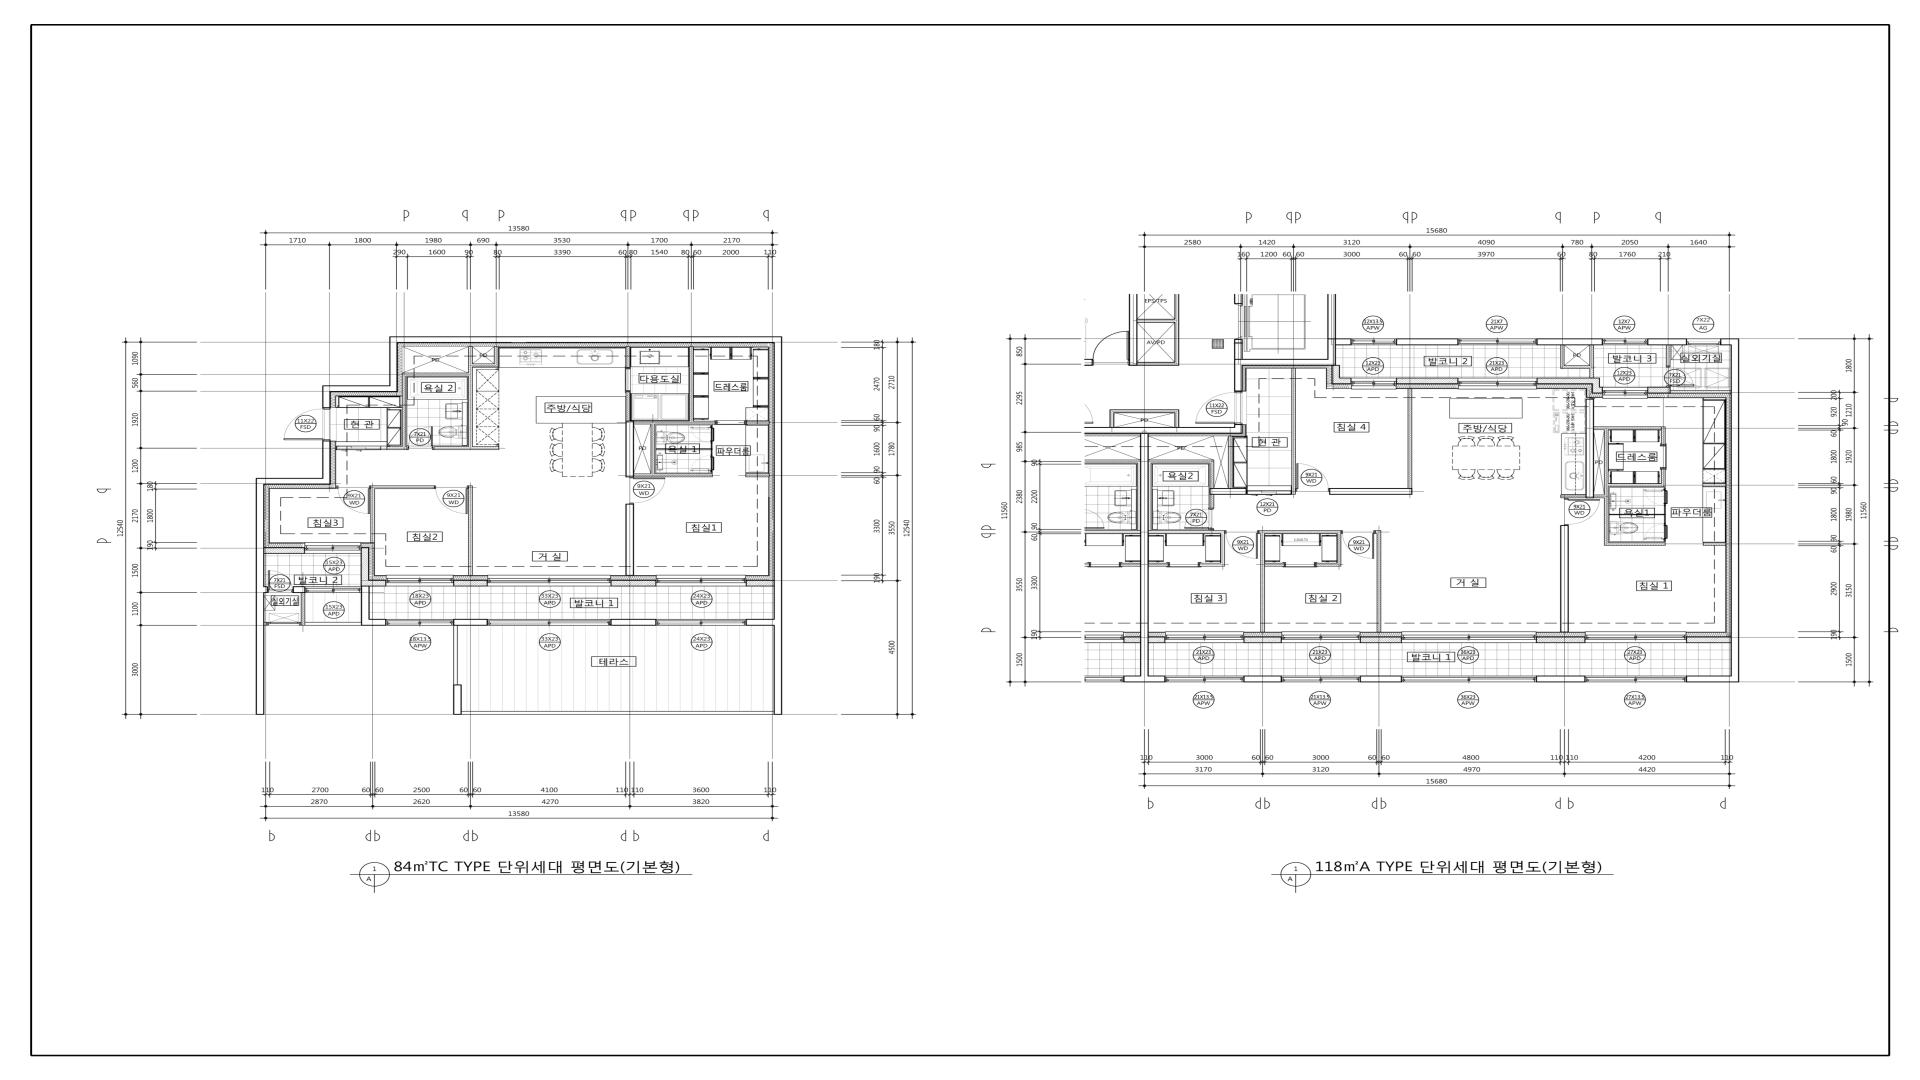door: (1195, 392, 1236, 423), (284, 409, 324, 440), (1296, 463, 1329, 492), (1225, 531, 1258, 559), (1564, 500, 1600, 525), (1342, 531, 1374, 559), (629, 479, 666, 502), (435, 487, 467, 514), (338, 487, 369, 514), (268, 570, 293, 591), (1184, 509, 1211, 529), (1668, 367, 1695, 386), (409, 426, 433, 447), (1643, 524, 1668, 539), (690, 427, 715, 443), (690, 455, 715, 471), (1643, 491, 1668, 505), (336, 446, 386, 450), (1247, 491, 1291, 495), (1284, 562, 1316, 567), (1168, 562, 1200, 567), (1660, 444, 1667, 469), (625, 368, 630, 392), (716, 421, 746, 425)
wall: (322, 336, 782, 626), (1687, 339, 1739, 682), (256, 440, 331, 625), (1139, 434, 1166, 683), (1234, 339, 1336, 392), (1084, 423, 1242, 434), (361, 585, 386, 626), (1560, 525, 1569, 632), (1536, 378, 1604, 393), (1585, 398, 1594, 498), (1374, 530, 1381, 632), (1291, 368, 1296, 495), (1129, 294, 1138, 365), (625, 504, 634, 575), (1604, 430, 1609, 546), (1329, 488, 1412, 495), (468, 347, 473, 447), (625, 421, 634, 477), (1407, 389, 1412, 488), (468, 485, 473, 575), (1536, 339, 1604, 345), (1327, 294, 1336, 339), (1396, 339, 1458, 345), (688, 347, 694, 421), (1261, 534, 1265, 632), (1332, 365, 1352, 384), (1258, 530, 1341, 534), (1396, 378, 1458, 384), (634, 421, 716, 425), (1536, 675, 1585, 682), (1536, 637, 1585, 644), (360, 547, 369, 582), (634, 473, 713, 477), (1685, 637, 1731, 644), (611, 618, 657, 625), (611, 580, 657, 587), (1149, 530, 1225, 534), (402, 376, 406, 447), (1228, 435, 1233, 488), (1360, 637, 1402, 644), (264, 547, 305, 554), (1594, 426, 1662, 430), (1175, 294, 1179, 361), (1647, 339, 1687, 345), (434, 446, 500, 450), (650, 425, 655, 473), (371, 485, 435, 489), (1114, 409, 1179, 413), (1244, 675, 1282, 682), (1209, 488, 1247, 495), (454, 580, 488, 587), (1609, 542, 1665, 546), (1609, 483, 1665, 487), (1360, 676, 1402, 682), (371, 489, 375, 542), (1244, 637, 1282, 642), (746, 580, 774, 587), (454, 620, 488, 625), (1149, 463, 1151, 530), (1589, 345, 1594, 378), (1149, 460, 1215, 463), (402, 373, 468, 376), (1336, 534, 1341, 567), (1138, 361, 1179, 365), (1671, 390, 1731, 393), (1647, 386, 1671, 393), (1234, 339, 1242, 359), (625, 392, 630, 421), (1220, 534, 1225, 563), (1138, 319, 1175, 323), (1209, 463, 1215, 488), (361, 580, 386, 585), (301, 593, 305, 625), (1149, 637, 1166, 644), (625, 347, 630, 368), (1665, 345, 1671, 367), (472, 364, 498, 368), (1336, 339, 1352, 345), (1564, 365, 1589, 369), (745, 421, 770, 425), (745, 473, 770, 477), (1200, 563, 1225, 567), (1560, 495, 1585, 498), (1109, 409, 1114, 427), (1702, 483, 1726, 487), (1560, 345, 1564, 369), (1702, 542, 1726, 546), (1316, 563, 1337, 567), (1234, 294, 1242, 305), (1149, 563, 1168, 567), (1265, 563, 1284, 567), (293, 587, 305, 593), (1209, 495, 1215, 509), (1174, 413, 1179, 427), (1662, 426, 1665, 444), (655, 448, 711, 450), (1609, 514, 1664, 516), (495, 347, 498, 364), (1084, 359, 1093, 365), (386, 447, 407, 450), (1662, 469, 1665, 483), (1594, 495, 1604, 498), (1664, 505, 1665, 524), (711, 443, 712, 455), (264, 622, 268, 625)
window: (1402, 632, 1536, 644), (488, 575, 611, 587), (1585, 632, 1687, 644), (657, 575, 746, 587), (1282, 632, 1360, 644), (1166, 632, 1244, 642), (1458, 378, 1536, 389), (488, 618, 611, 625), (386, 575, 454, 587), (1402, 676, 1536, 682), (305, 542, 361, 554), (1585, 675, 1687, 682), (657, 618, 746, 625), (1602, 386, 1648, 398), (1166, 675, 1244, 682), (1282, 675, 1360, 682), (1458, 339, 1536, 345), (1352, 378, 1396, 389), (386, 618, 454, 625), (305, 587, 361, 592), (1602, 339, 1647, 345), (1352, 339, 1396, 345), (1687, 339, 1721, 345), (268, 622, 301, 625)
